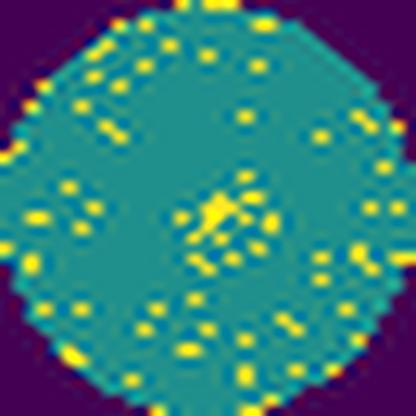Center: (180, 180, 263, 247)
